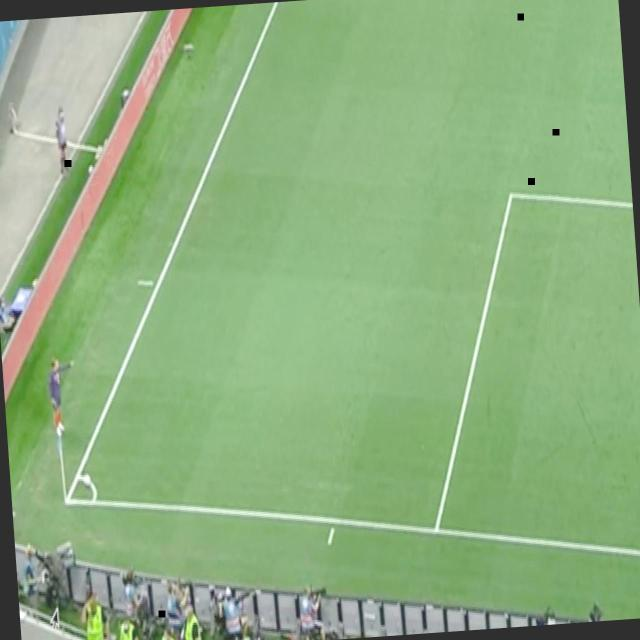ball: (82, 472, 92, 489)
player-white: (47, 355, 80, 437)
